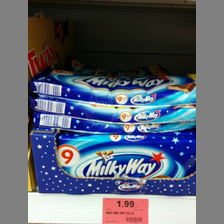chocolate: (30, 65, 193, 108), (55, 132, 196, 180), (35, 108, 194, 134)
